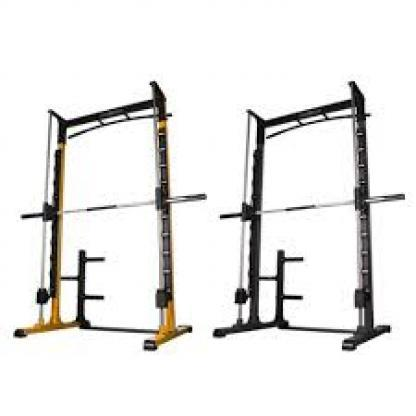smith machine: (212, 82, 406, 350), (15, 81, 206, 351)
